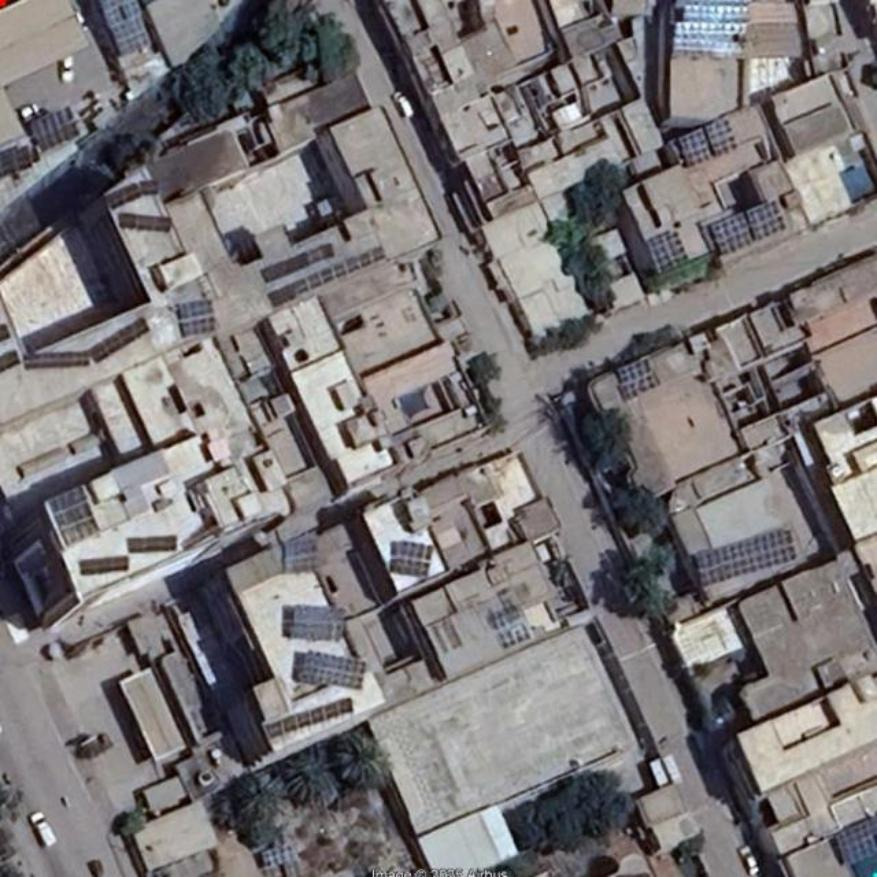Solarpanel: (695, 525, 795, 589), (294, 247, 389, 297), (712, 202, 783, 254), (266, 699, 354, 737), (678, 117, 738, 166), (100, 0, 152, 55), (91, 317, 151, 362), (301, 649, 365, 688), (837, 814, 876, 865), (392, 535, 436, 580), (291, 605, 344, 642), (33, 104, 74, 150), (650, 230, 689, 275), (619, 356, 660, 398), (179, 297, 215, 336), (22, 354, 90, 371), (106, 182, 142, 209), (81, 556, 129, 572), (123, 216, 171, 232), (128, 537, 176, 551), (139, 181, 158, 195)
